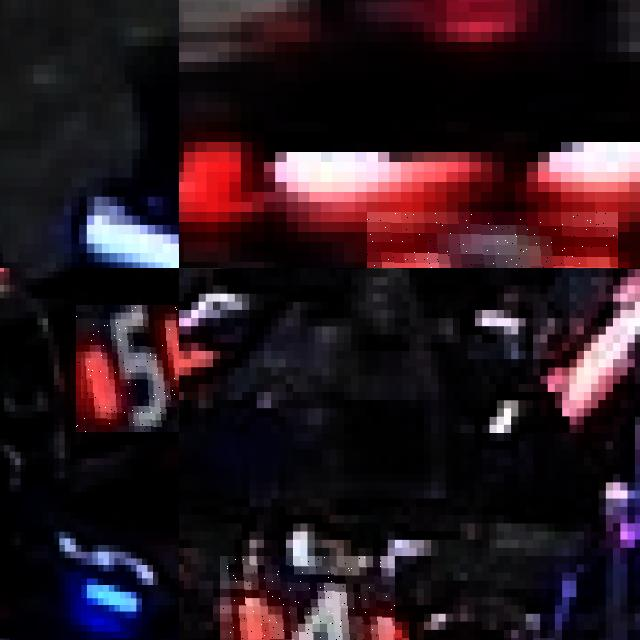B5: (43, 505, 153, 632)
R3: (366, 212, 618, 268)
R4: (220, 556, 394, 640)
R5: (75, 305, 179, 431)
